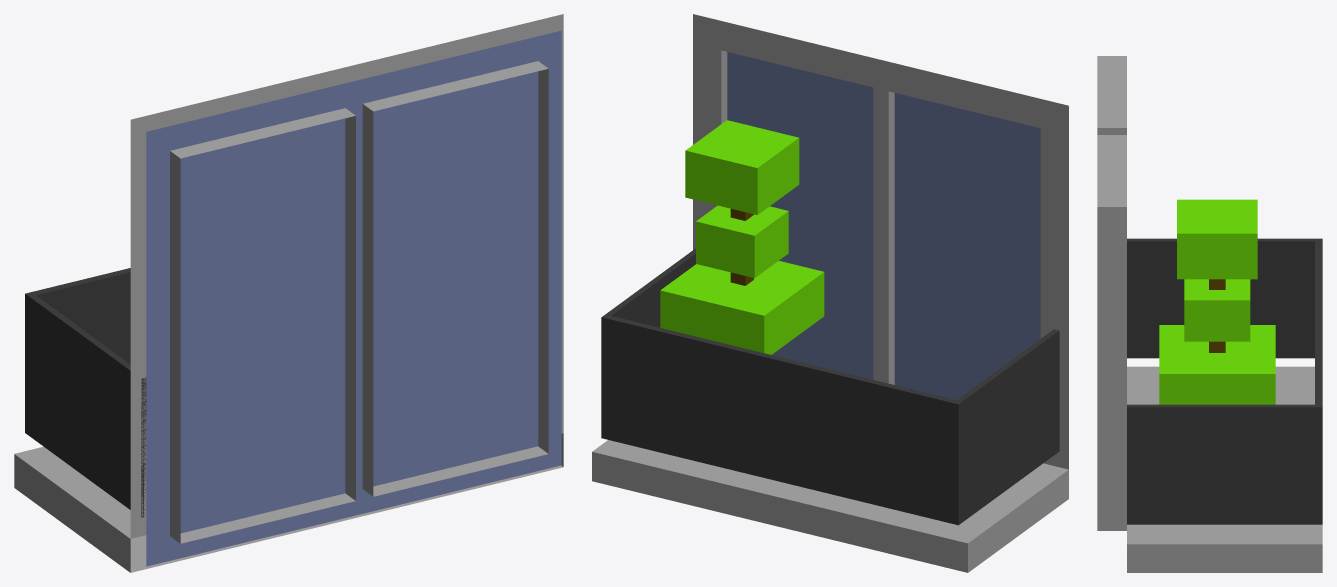
The model's file is BalconyPlant.fbx.
3 renders of one model, left to right at view 1: azimuth 30°, elevation 25°; view 2: azimuth 150°, elevation 25°; view 3: azimuth 270°, elevation 25°, orthographic. The views are drawn at different scales.
Parts seen in each view (by area): view 1: BalconyPlant; view 2: BalconyPlant; view 3: BalconyPlant.
Part boxes in pixels (<box>): BalconyPlant: <box>14,14,563,572</box>; BalconyPlant: <box>592,14,1068,572</box>; BalconyPlant: <box>1097,56,1322,572</box>.
Size of the model in its own units: 1 by 1 by 0.535.
